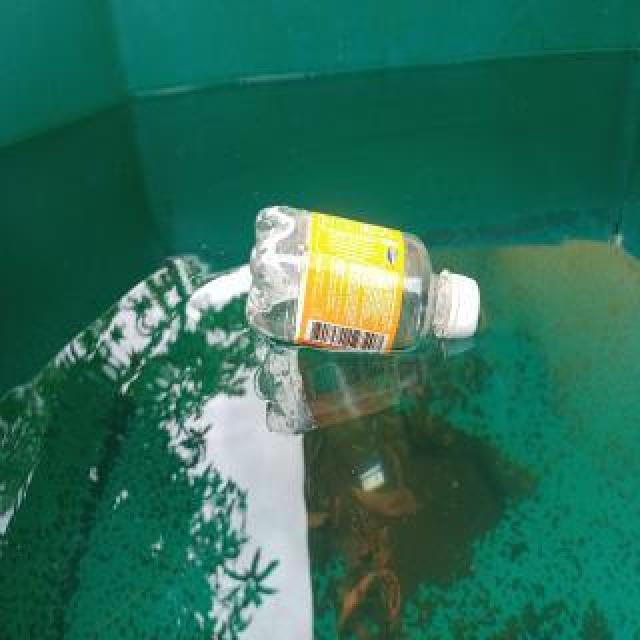bottle: (245, 201, 481, 355)
